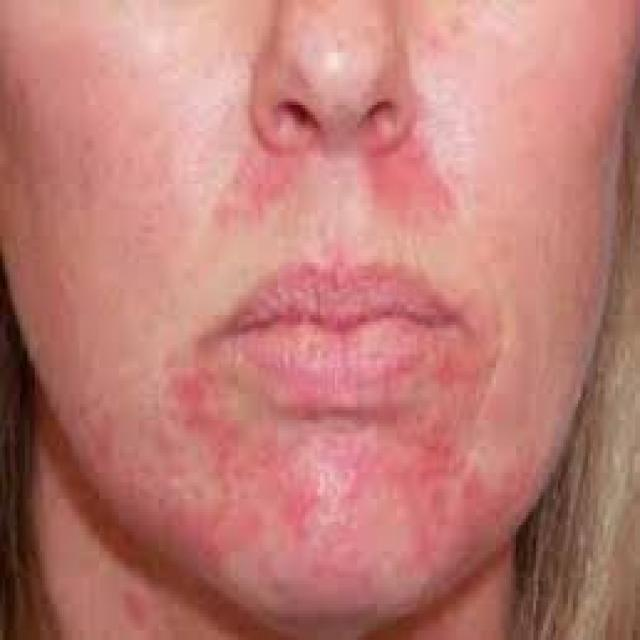Rosacea: (97, 374, 514, 581), (206, 137, 449, 232)
